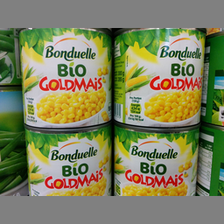corn: (19, 28, 115, 129), (114, 28, 205, 127), (24, 125, 112, 196), (112, 124, 198, 196)
